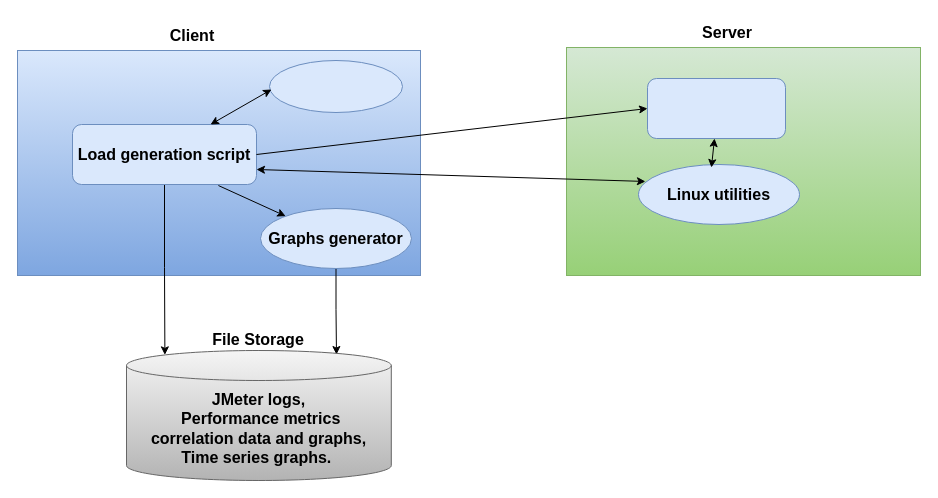
Some shapes in this 938 by 498 pixel diagram are drawn without their labels. Here are the shapes that lost their labels. From the top down, the centre of each, then its label:
[335,86]: JMeter
[716,108]: Evalpro application
